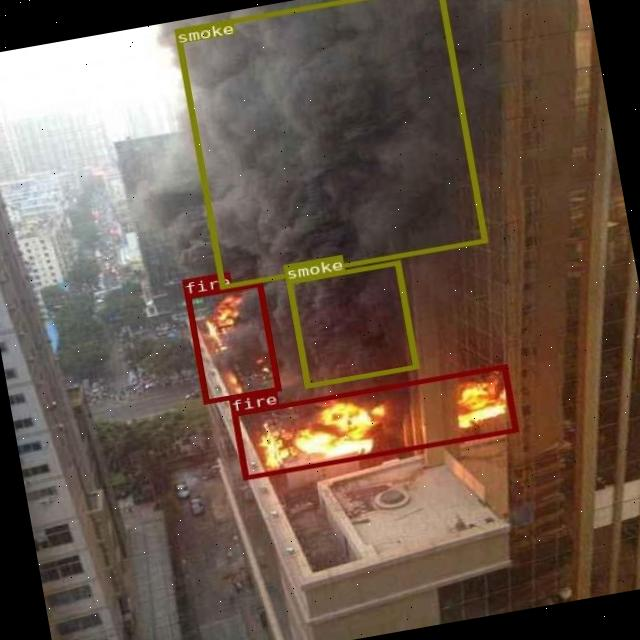fire: (230, 364, 518, 479), (184, 281, 280, 404)
smoke: (173, 0, 487, 288), (284, 259, 418, 386)
